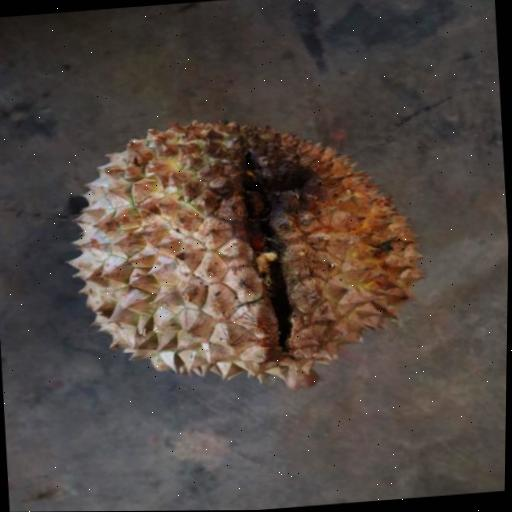rot: (41, 61, 454, 453)
